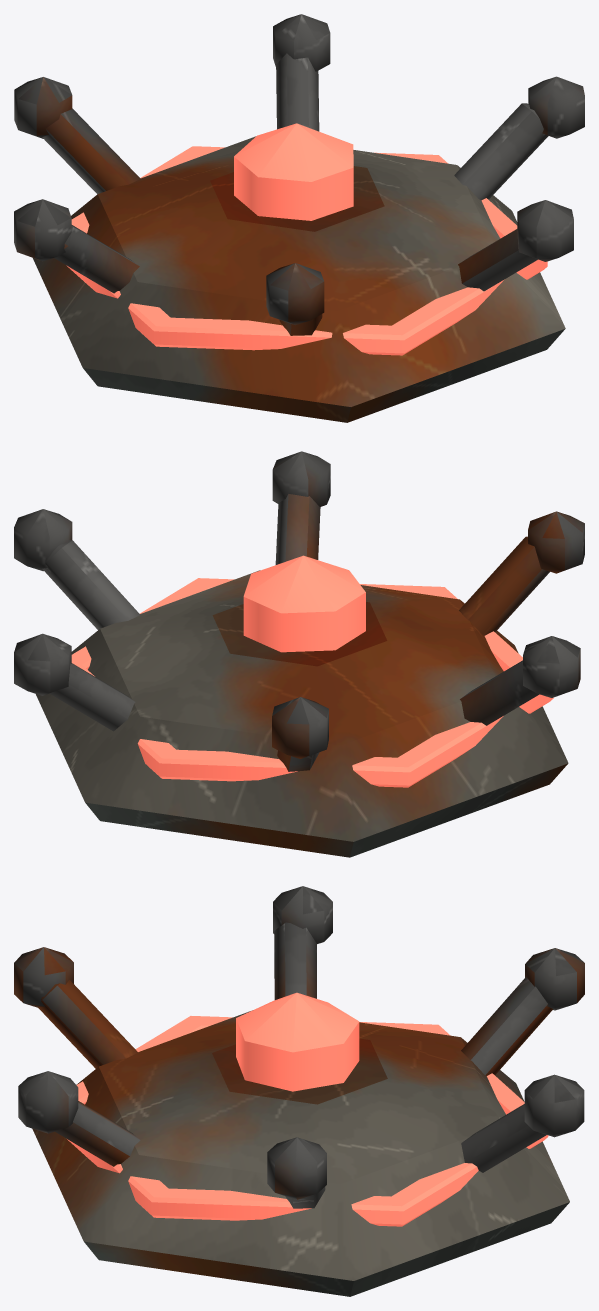
The model's file is R4D_ExplosiveTrap_LOD1.glb.
3 views of the same model, one above another, from view 1: azimuth 30°, elevation 25°; view 2: azimuth 150°, elevation 25°; view 3: azimuth 270°, elevation 25° (orthographic).
Parts seen in each view (by area): view 1: R4D_ExplosiveTrap_LOD1; view 2: R4D_ExplosiveTrap_LOD1; view 3: R4D_ExplosiveTrap_LOD1.
Boxes of the visible parts, box(x1,y1,x2,y2) form: R4D_ExplosiveTrap_LOD1: box(14, 14, 584, 422); R4D_ExplosiveTrap_LOD1: box(14, 451, 584, 857); R4D_ExplosiveTrap_LOD1: box(14, 886, 584, 1296).
Size of the model in its own units: 0.4917 by 0.16 by 0.4292.
5 materials, 4 textured.
